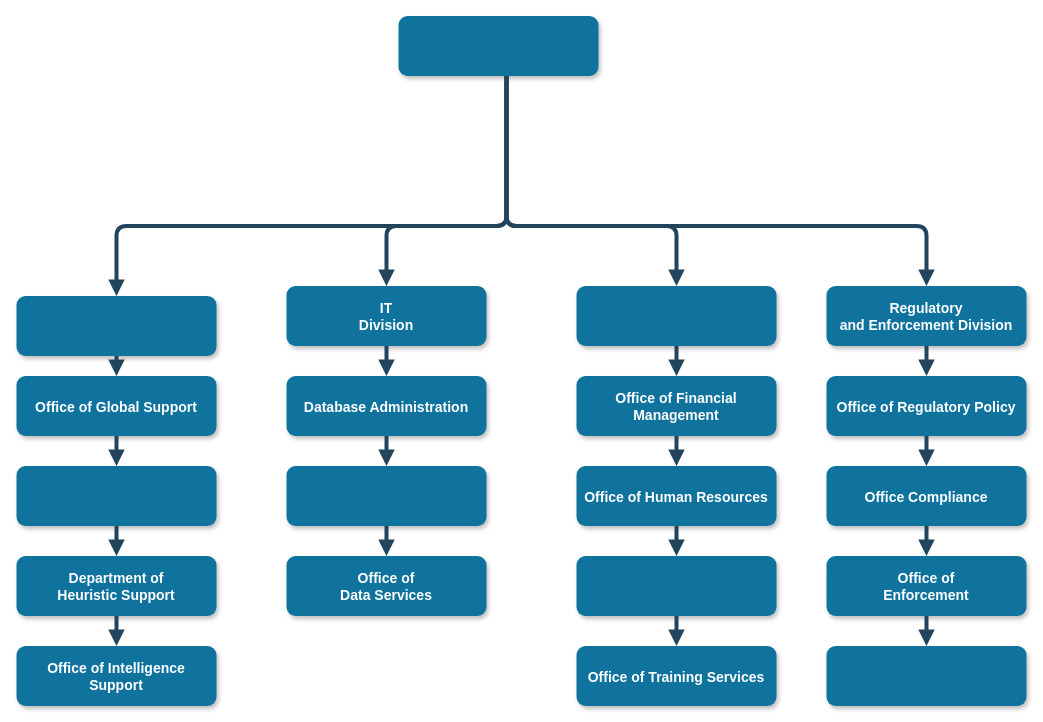
This 1043x722 diagram has some shape labels left out. The shapes that lost their labels are listed below. From the top down, each one's centre as x and y in pixels, then its label:
At (499,47): "CEO".
At (117,327): "Analysis Division".
At (677,317): "Management Programs Division".
At (117,497): "Office of Backtrack Analysis".
At (387,497): "Office of Technology Research".
At (677,587): "Office of Management".
At (927,677): "Office of Regulatory Support".
